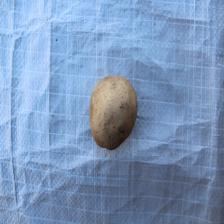Diseased-fungal potato: (89, 76, 138, 151)
